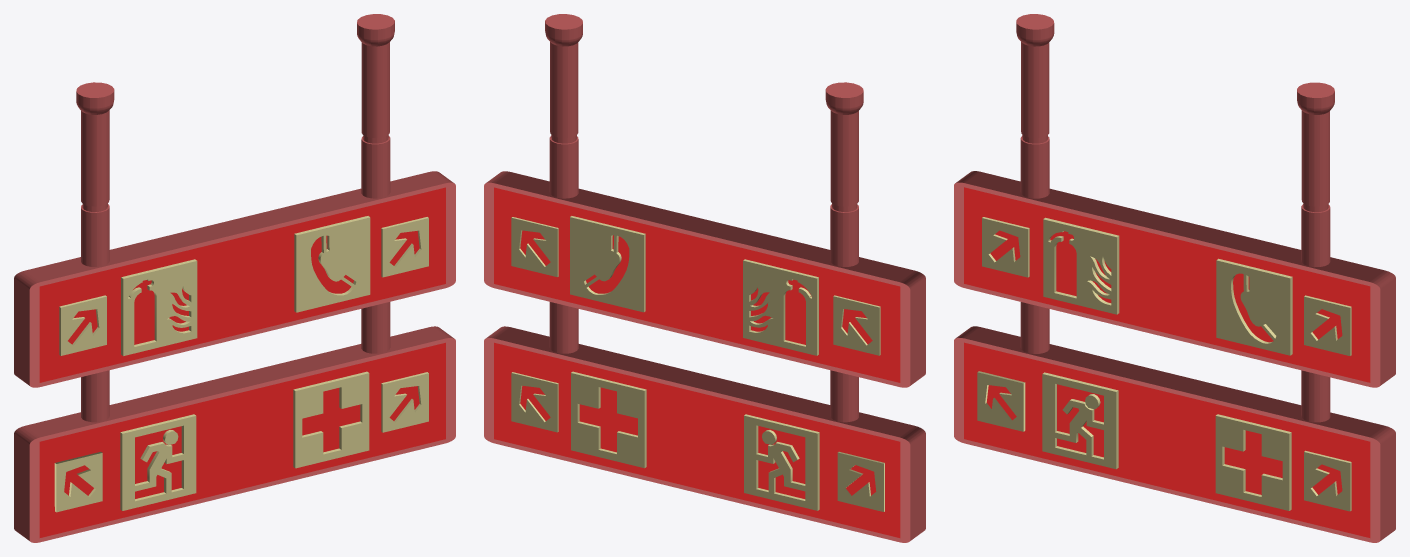
The model's file is MallSign2_Roof_FBX.fbx.
3 views of the same model, side by side, from view 1: azimuth 30°, elevation 25°; view 2: azimuth 150°, elevation 25°; view 3: azimuth 330°, elevation 25° (orthographic).
Visible parts, largest first — view 1: Sign2; view 2: Sign2; view 3: Sign2.
Part boxes in pixels (x1,y1,x2,y2): Sign2: (14,14,455,542); Sign2: (484,14,925,542); Sign2: (954,14,1395,542).
Size of the model in its own units: 170 by 164 by 13.64.
